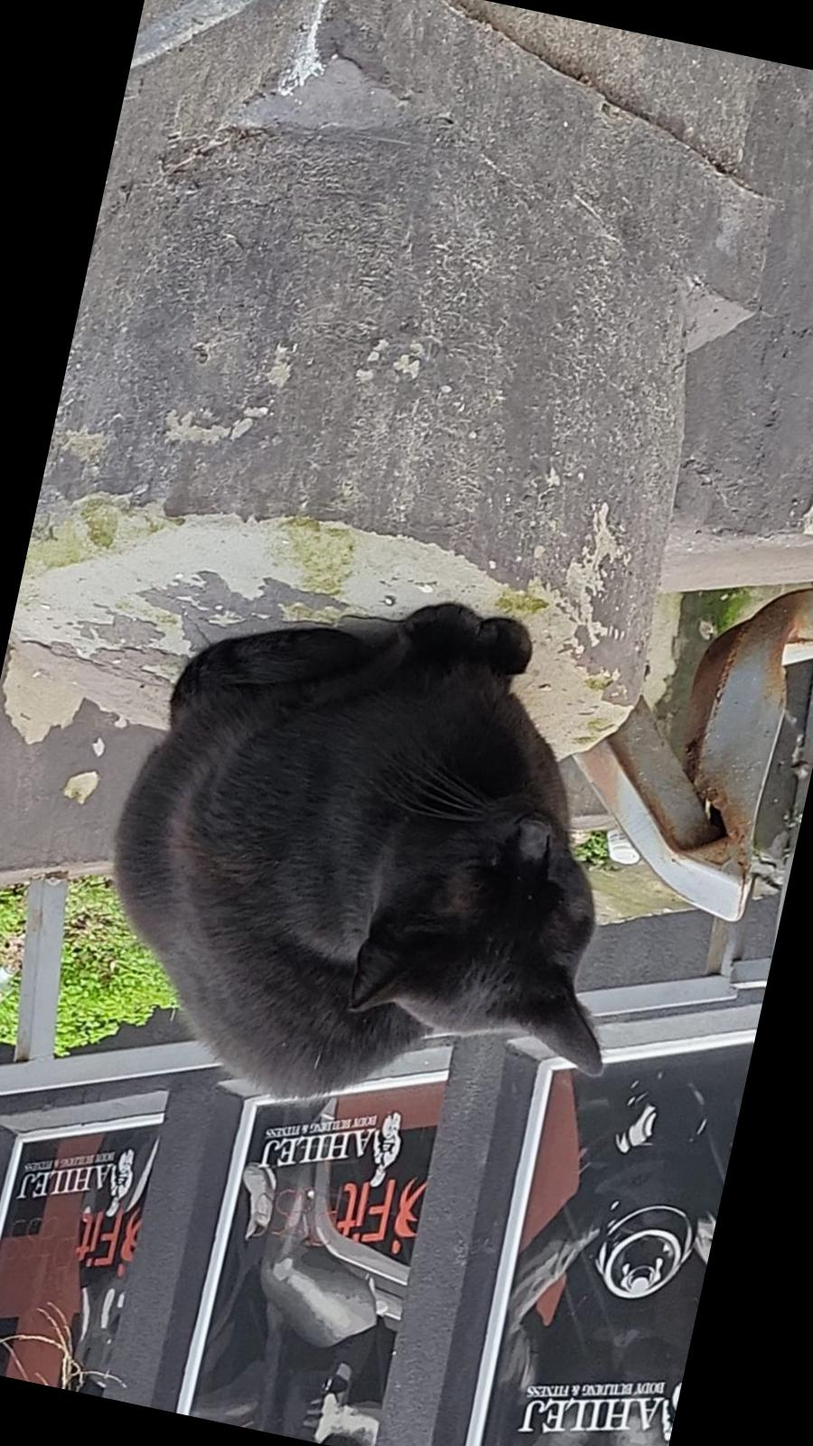macka: (62, 546, 692, 1166)
